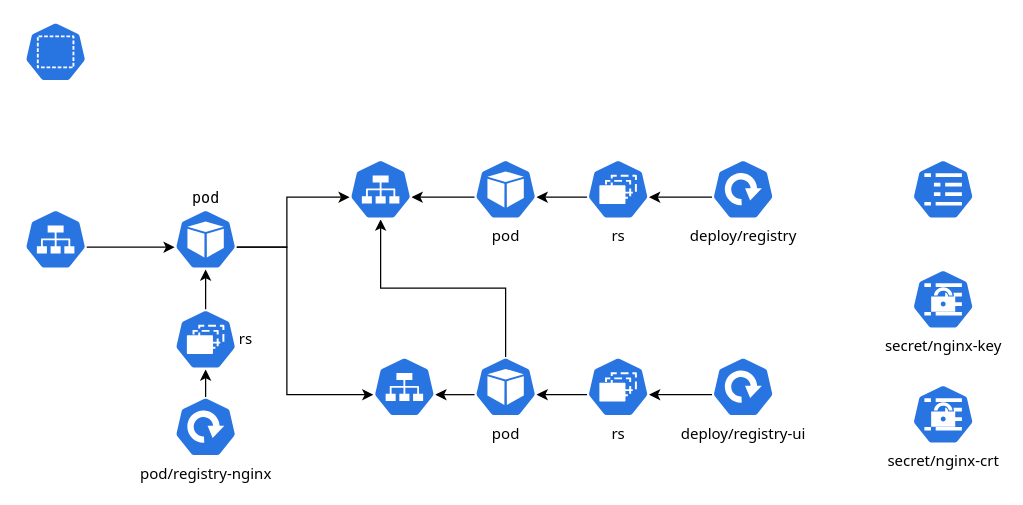
This 1023x505 diagram has some shape labels left out. Here are the shapes that lost their labels. From the top down, the centre of each, then its label:
pixel 55 51: Namespace: docker-registry
pixel 380 188: ClusterIP svc/registry
pixel 942 188: cm/nginx-conf
pixel 55 238: NodePort svc/nginx
pixel 404 386: ClusterIP svc/registry-ui
